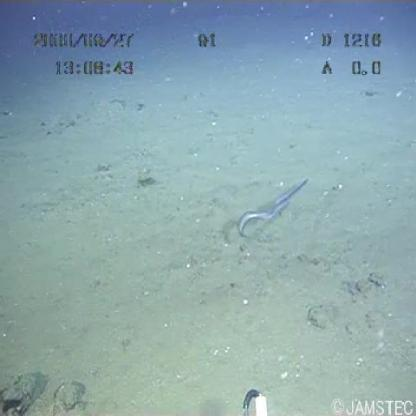Bio: (231, 172, 313, 247)
